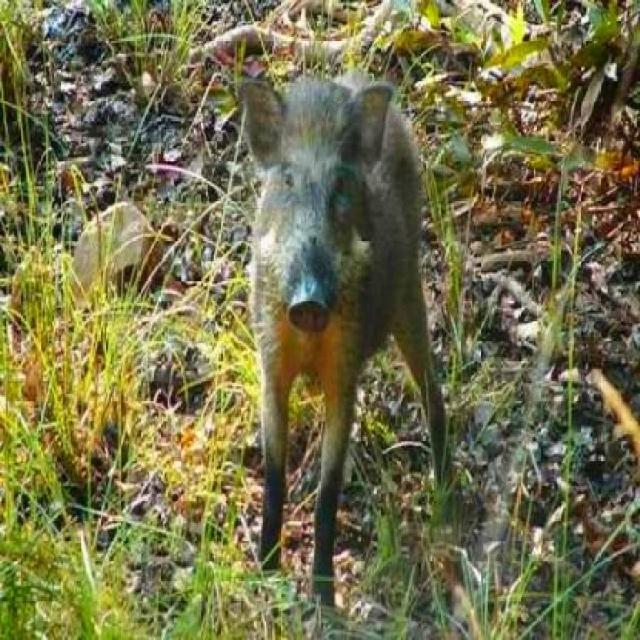Boar: (212, 64, 470, 544)
